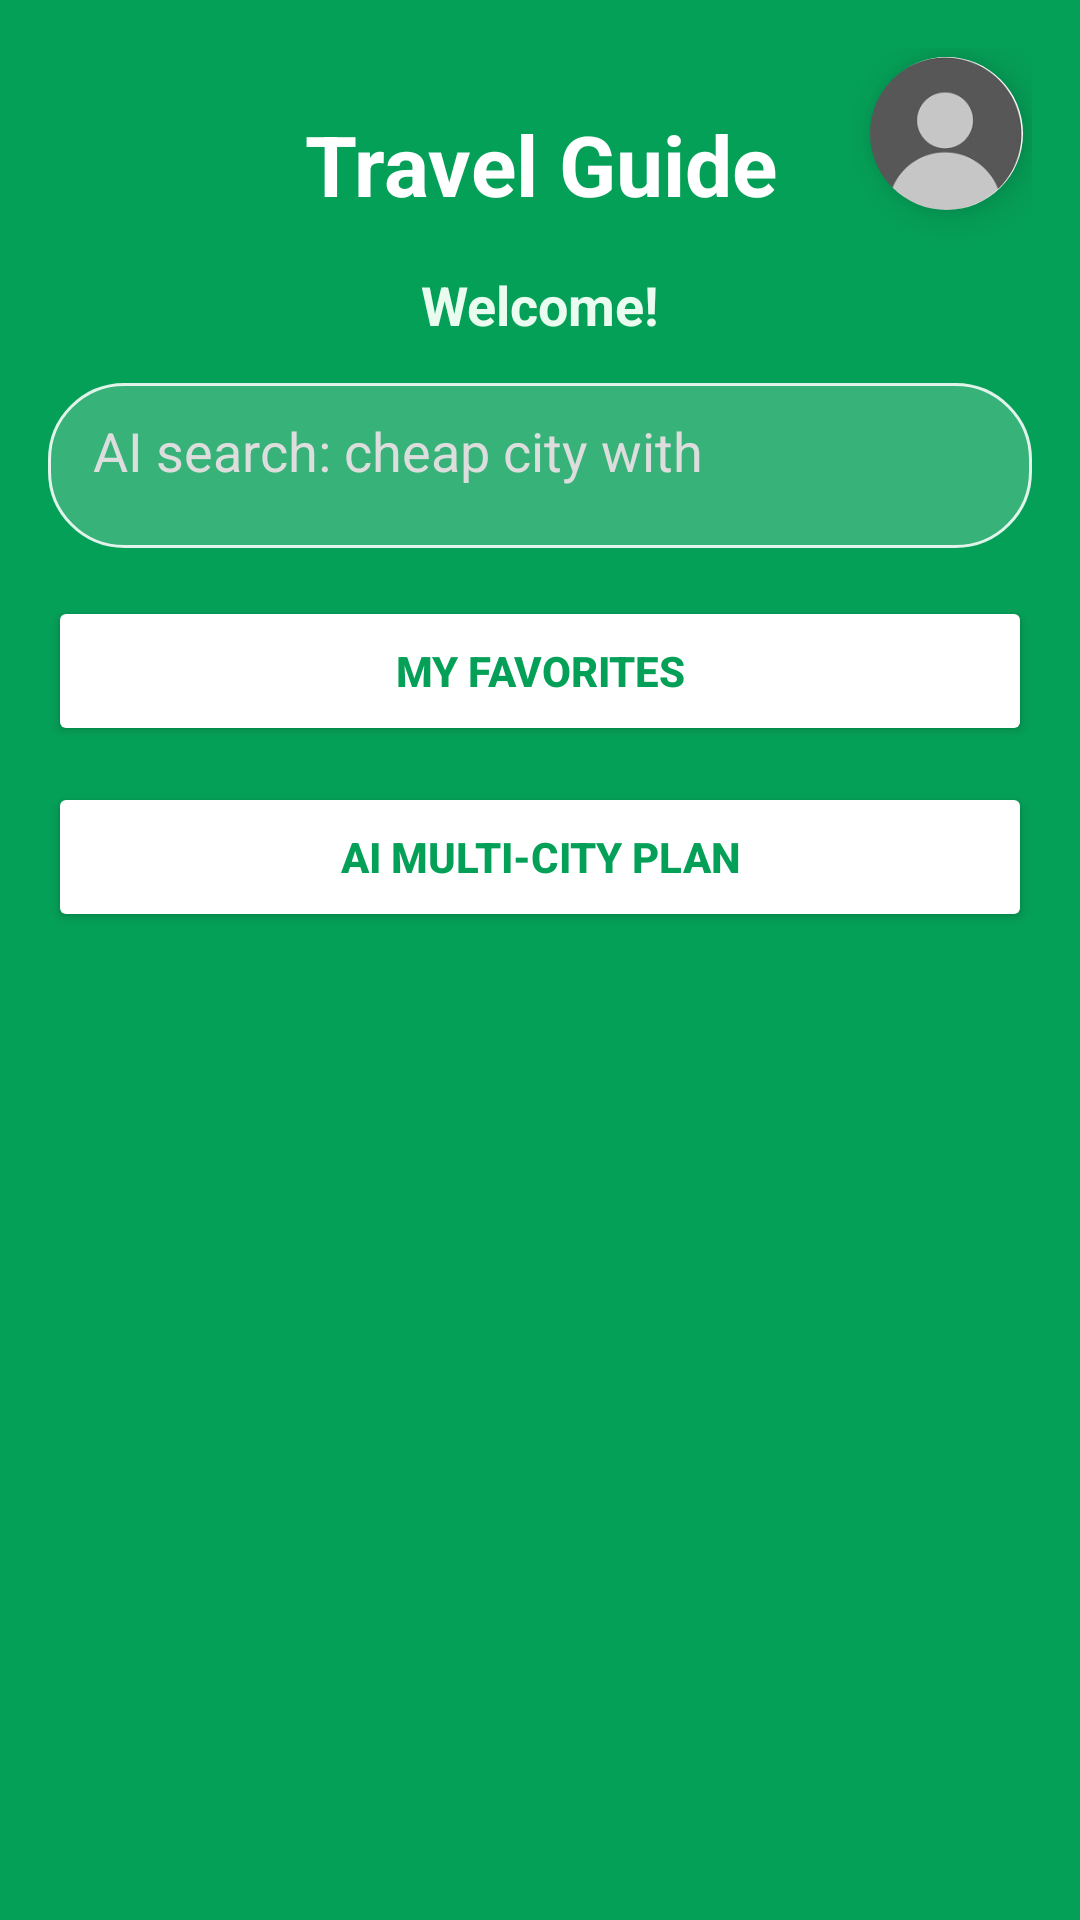

Named icons in this screenshot (1080x1920) and their bounding boxes, (x1, y1, x2, y2):
user: (870, 57, 1023, 210)
